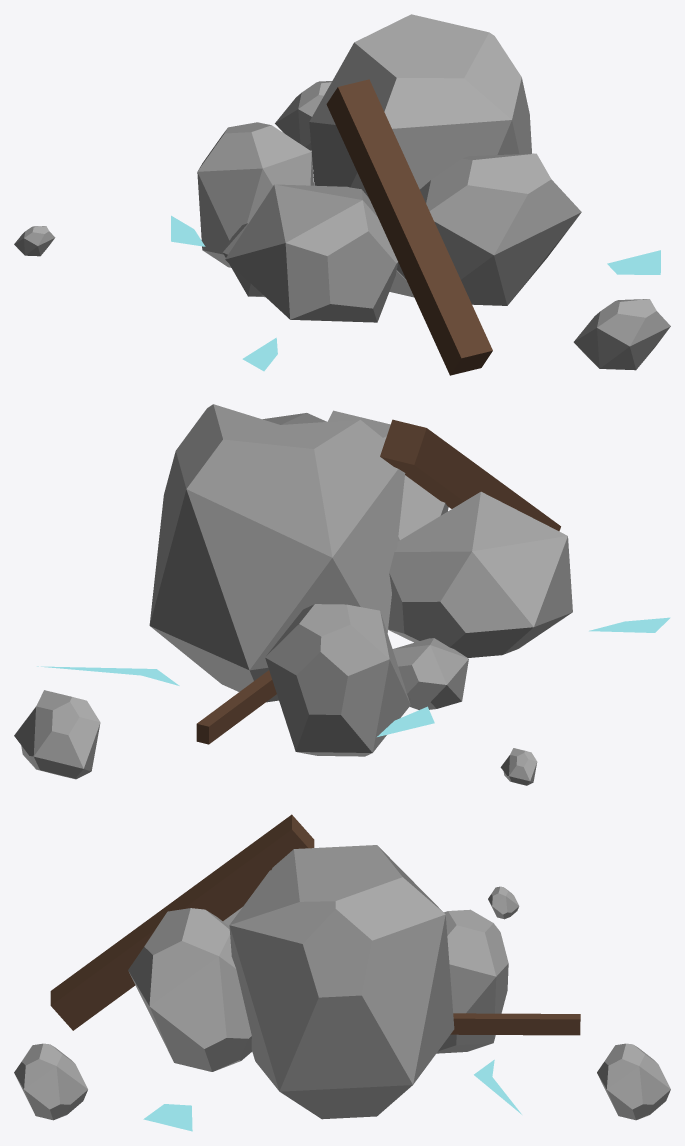
File: Rubble.glb
The picture shows the model from 3 angles, top to bottom: view 1: azimuth 30°, elevation 25°; view 2: azimuth 150°, elevation 25°; view 3: azimuth 270°, elevation 25°; orthographic projection. The views are drawn at different scales.
Visible parts, largest first — view 1: Icosphere.001, Icosphere, Icosphere.002, Cube, Icosphere.007, Icosphere.004, Icosphere.005, Plane, Icosphere.006, Plane.001, Plane.002, Icosphere.003; view 2: Icosphere.001, Icosphere, Icosphere.007, Cube, Icosphere.005, Icosphere.003, Cube.001, Icosphere.002, Icosphere.006, Plane.001, Plane.002, Plane.003; view 3: Icosphere.001, Icosphere.002, Cube, Icosphere.007, Icosphere.005, Icosphere.004, Cube.001, Plane, Icosphere.006, Plane.003.
Part boxes in pixels (bbox=[...]): Icosphere.001: bbox=[309, 14, 531, 297]; Icosphere: bbox=[225, 184, 397, 322]; Icosphere.002: bbox=[396, 153, 581, 305]; Cube: bbox=[326, 79, 492, 375]; Icosphere.007: bbox=[197, 122, 313, 267]; Icosphere.004: bbox=[573, 299, 670, 370]; Icosphere.005: bbox=[275, 81, 331, 150]; Plane: bbox=[607, 250, 660, 274]; Icosphere.006: bbox=[14, 226, 55, 256]; Plane.001: bbox=[242, 337, 277, 371]; Plane.002: bbox=[171, 215, 205, 246]; Icosphere.003: bbox=[223, 223, 265, 297]; Icosphere.001: bbox=[149, 404, 405, 702]; Icosphere: bbox=[388, 491, 572, 657]; Icosphere.007: bbox=[265, 604, 410, 756]; Cube: bbox=[380, 419, 560, 531]; Icosphere.005: bbox=[14, 690, 100, 779]; Icosphere.003: bbox=[392, 638, 468, 709]; Cube.001: bbox=[196, 670, 276, 744]; Icosphere.002: bbox=[327, 410, 448, 541]; Icosphere.006: bbox=[500, 748, 537, 785]; Plane.001: bbox=[589, 617, 670, 632]; Plane.002: bbox=[377, 706, 434, 736]; Plane.003: bbox=[37, 666, 179, 685]; Icosphere.001: bbox=[229, 845, 454, 1119]; Icosphere.002: bbox=[128, 908, 252, 1071]; Cube: bbox=[50, 814, 314, 1030]; Icosphere.007: bbox=[436, 909, 508, 1053]; Icosphere.005: bbox=[597, 1043, 670, 1120]; Icosphere.004: bbox=[14, 1043, 87, 1120]; Cube.001: bbox=[450, 1013, 580, 1035]; Plane: bbox=[143, 1104, 192, 1131]; Icosphere.006: bbox=[488, 886, 519, 919]; Plane.003: bbox=[474, 1059, 521, 1114].
Bounding box in the file's own units: 4.21 × 2.03 × 5.1.
